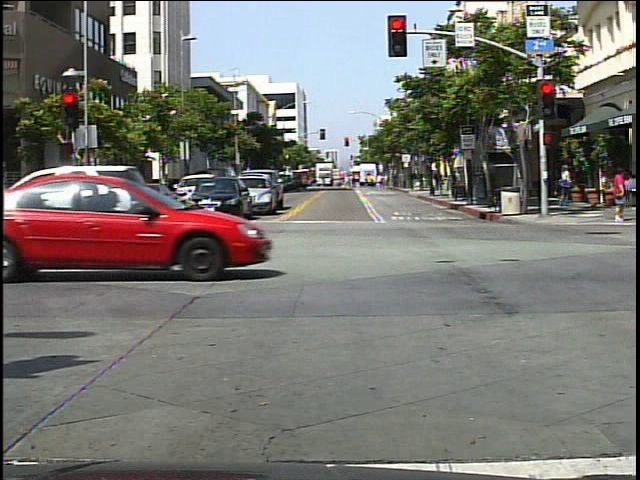person: (64, 171, 96, 235), (607, 167, 635, 228), (555, 162, 578, 213)
